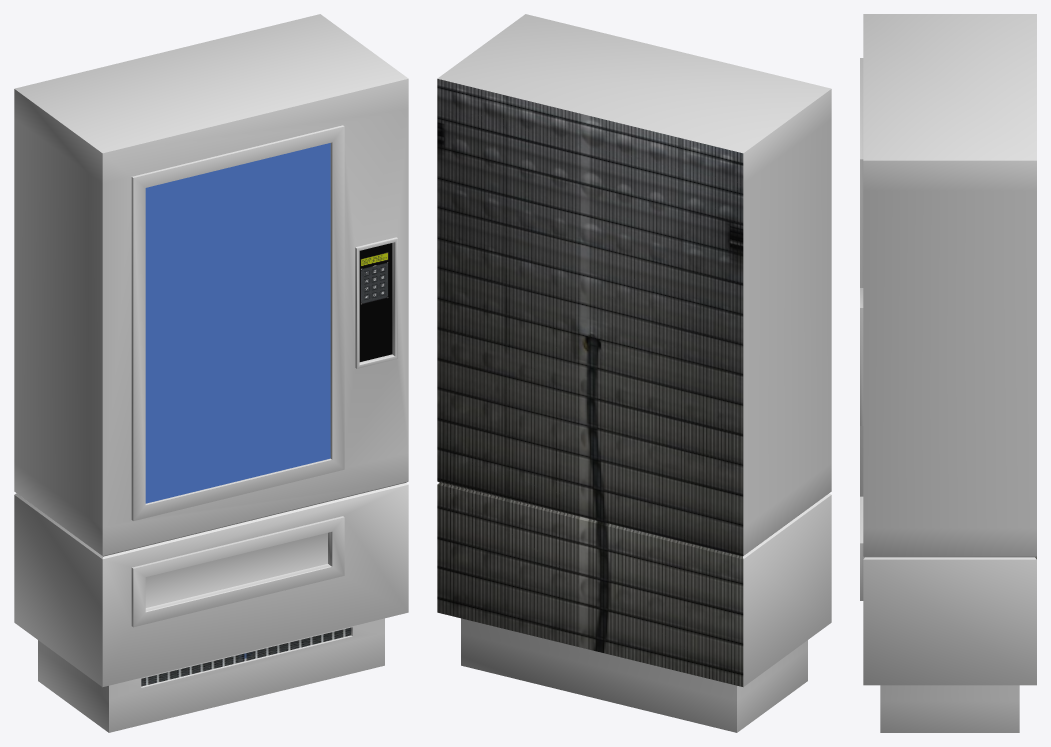
The model's file is VendingMachine.fbx.
3 renders of one model, left to right at view 1: azimuth 30°, elevation 25°; view 2: azimuth 150°, elevation 25°; view 3: azimuth 270°, elevation 25°, orthographic.
Parts seen in each view (by area): view 1: Cube.001; view 2: Cube.001; view 3: Cube.001.
Part boxes in pixels (box(x1,y1,x2,y2)): Cube.001: box(14, 14, 408, 732); Cube.001: box(437, 14, 831, 732); Cube.001: box(860, 14, 1036, 732).
Bounding box in the file's own units: 110 × 202 × 55.88.
Materials: 6 (1 with a texture image).
